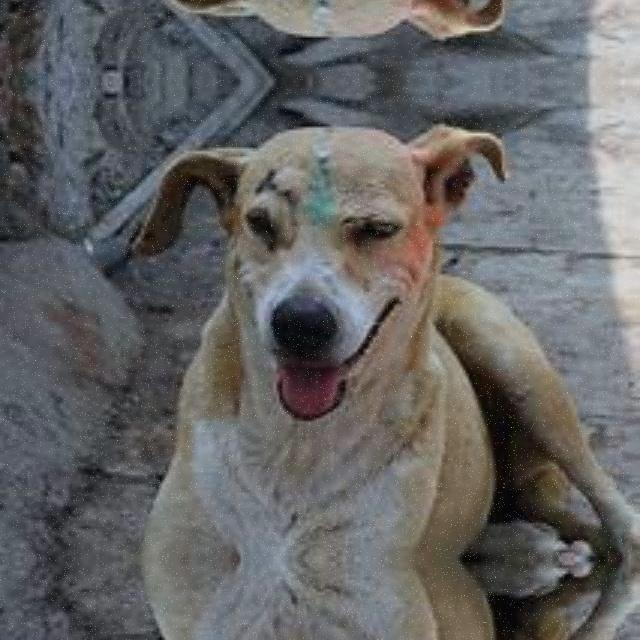dog: (111, 129, 581, 559), (111, 559, 581, 640), (111, 0, 581, 33)
